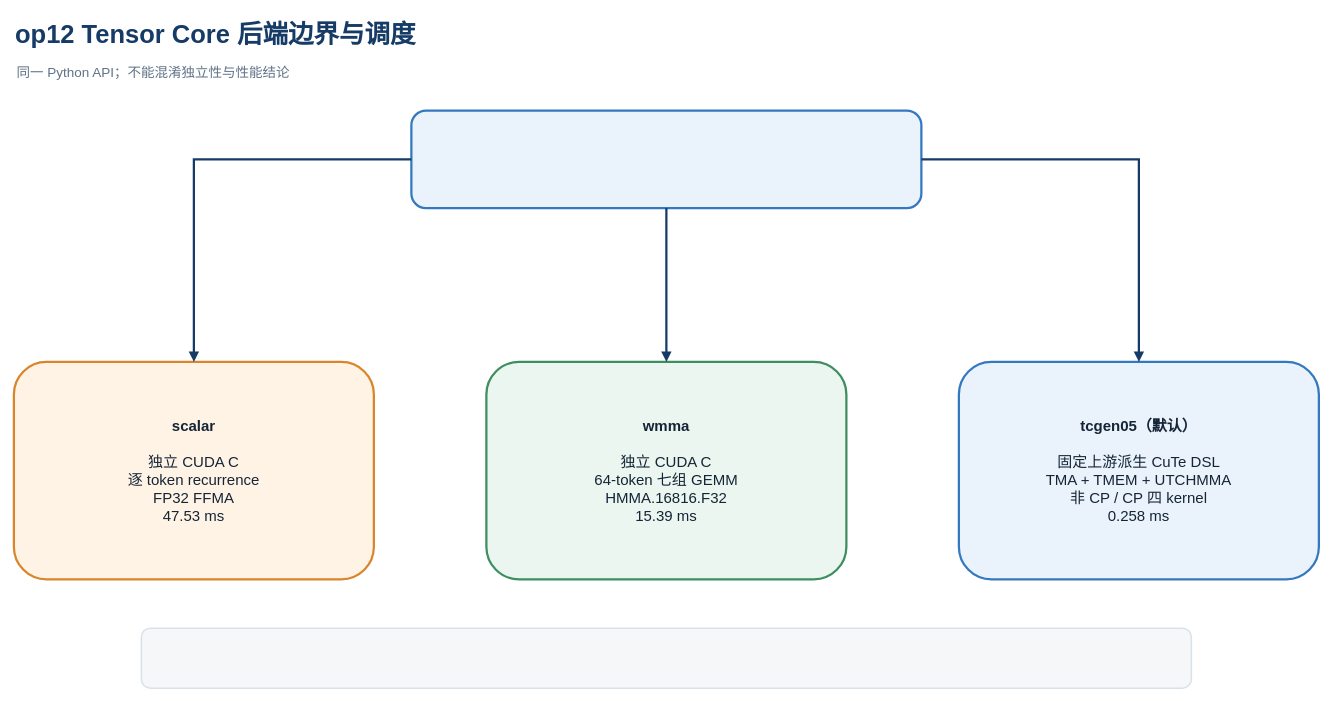
This 1333x701 diagram has some shape labels left out. Here are the shapes that lost their labels. From the top down, the centre of each, then its label:
At (666,159): "chunk_gated_delta_rule TND / FP16-BF16 / D128 / GQA-GVA / state".
At (666,657): "验收口径：WMMA 证明独立 Tensor Core 数据流；性能一致由固定提交派生 tcgen05 路径实现，并明确披露复用关系。".
